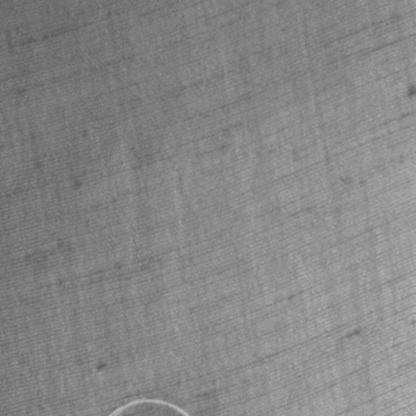objects: (105, 392, 191, 415)
